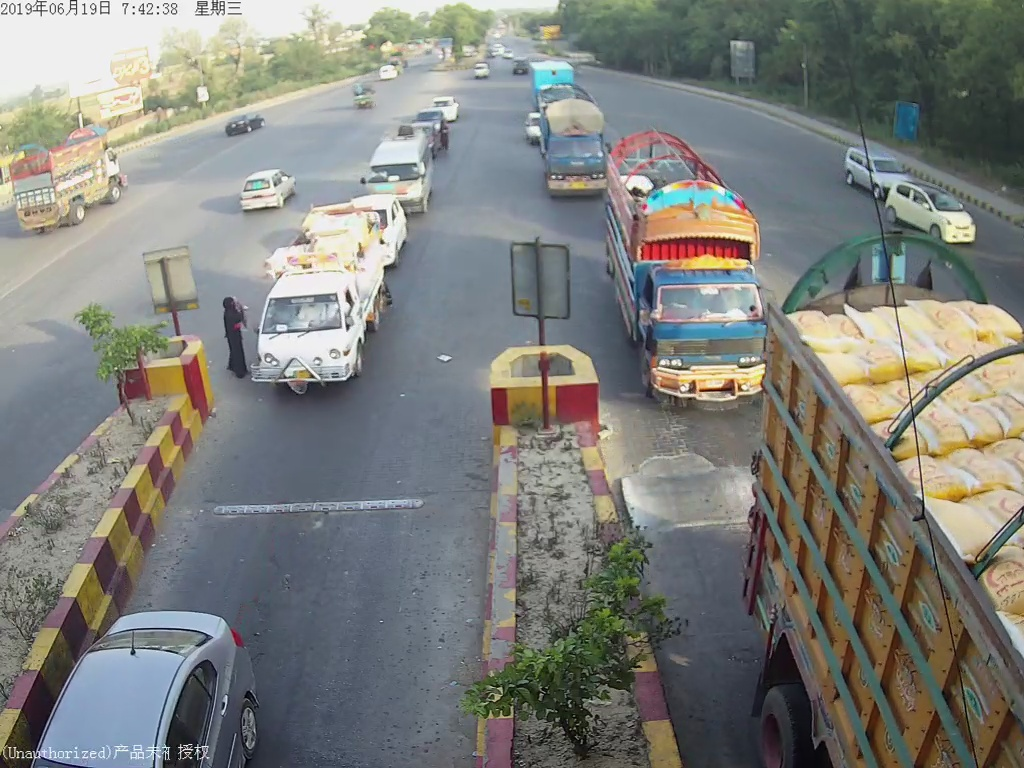Cat-2: (607, 145, 765, 413), (251, 231, 384, 395)
Cat-4: (609, 147, 767, 415), (536, 93, 606, 203)
